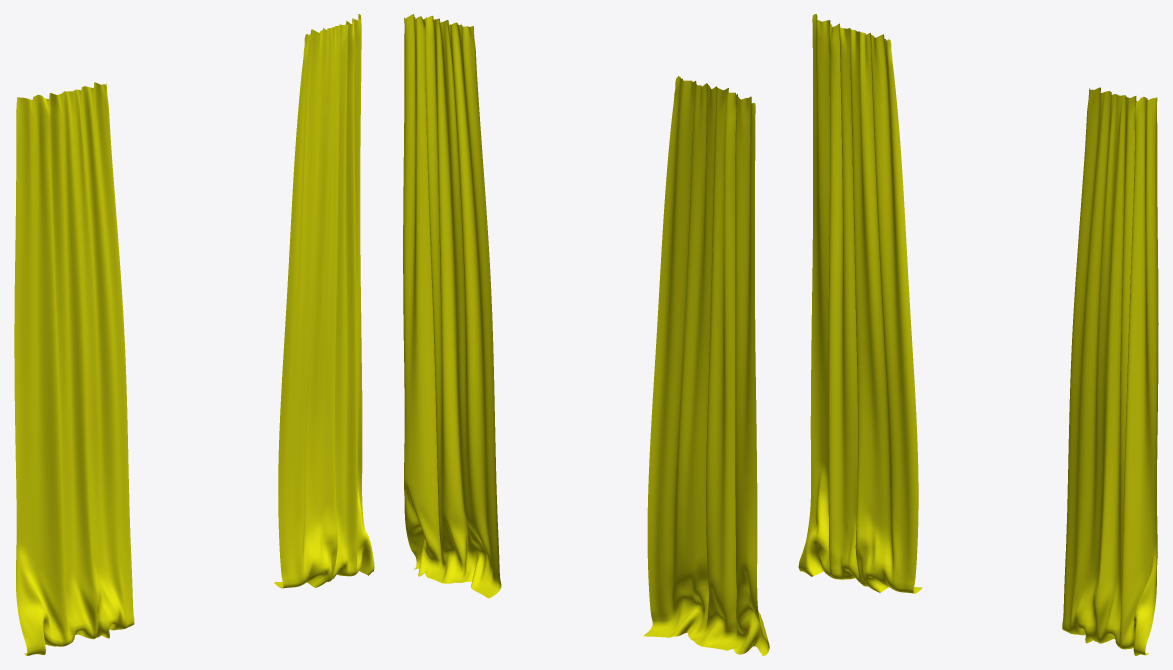
Rendered from OM_3BHK_DM_Curtain_01.fbx.
3 views of the same model, side by side, from view 1: azimuth 30°, elevation 25°; view 2: azimuth 150°, elevation 25°; view 3: azimuth 330°, elevation 25° (orthographic).
Visible parts, largest first — view 1: OM_3BHK_DM_Curtain; view 2: OM_3BHK_DM_Curtain; view 3: OM_3BHK_DM_Curtain.
Part boxes in pixels (box(x1,y1,x2,y2)): OM_3BHK_DM_Curtain: box(14, 14, 374, 655); OM_3BHK_DM_Curtain: box(403, 14, 769, 655); OM_3BHK_DM_Curtain: box(798, 14, 1158, 655).
Bounding box in the file's own units: 1.88 × 2.85 × 0.2228.
